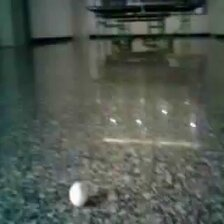w: (67, 181, 89, 207)
